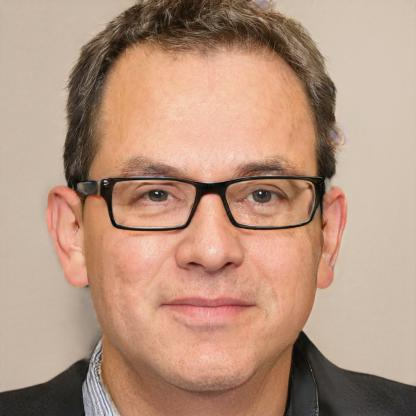glasses: (88, 166, 321, 240)
